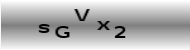2: (113, 24, 127, 39)
G: (54, 25, 70, 39)
V: (73, 8, 90, 22)
s: (37, 23, 51, 34)
x: (96, 20, 111, 31)
